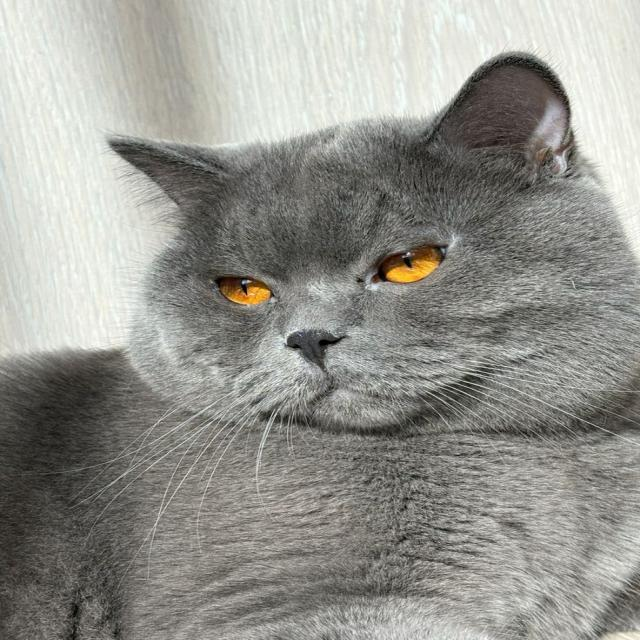british shorthair: (0, 52, 639, 639)
